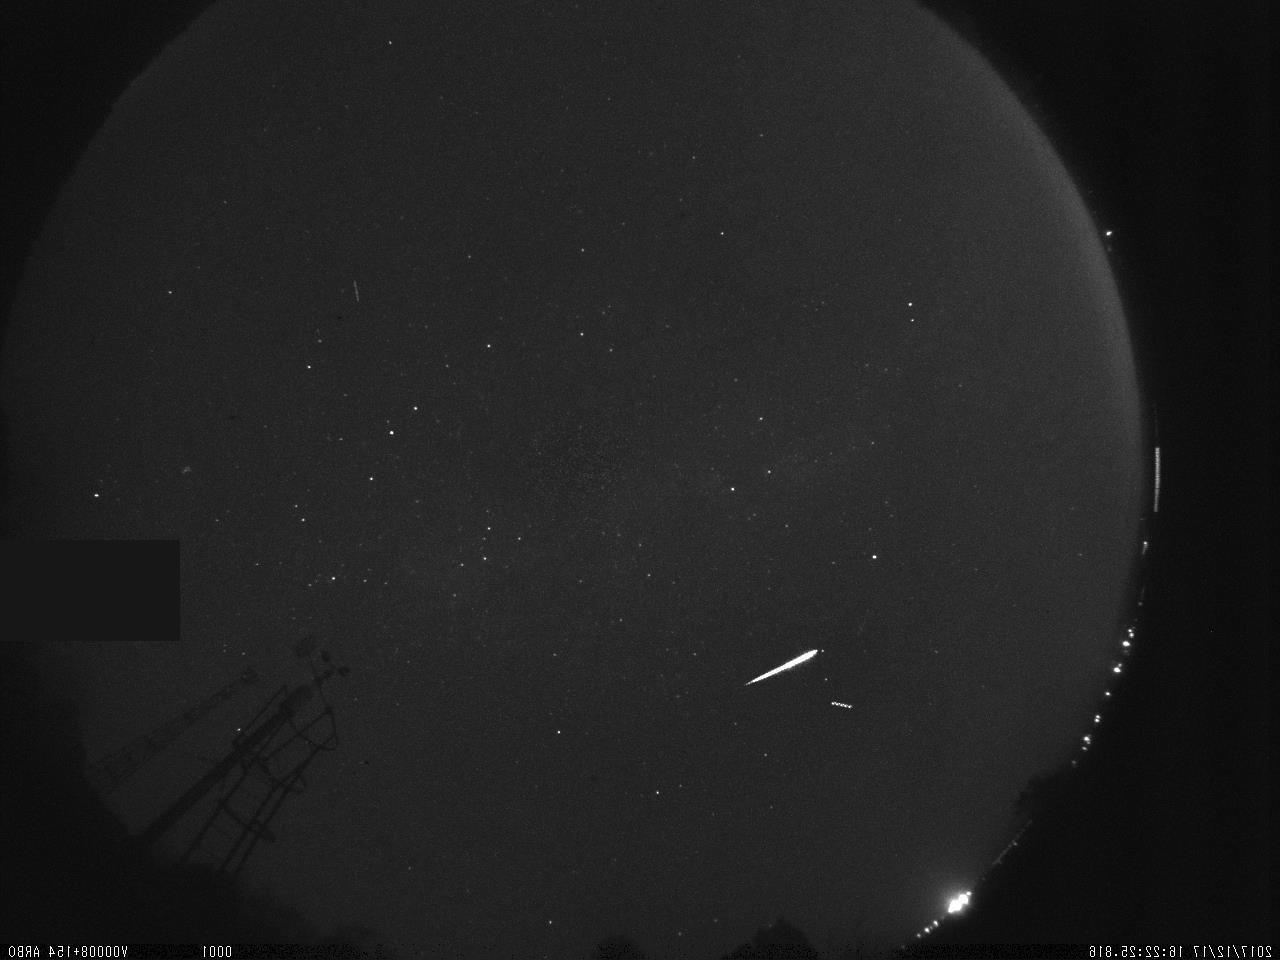meteor: (738, 641, 825, 694)
satelite: (829, 695, 857, 719)
